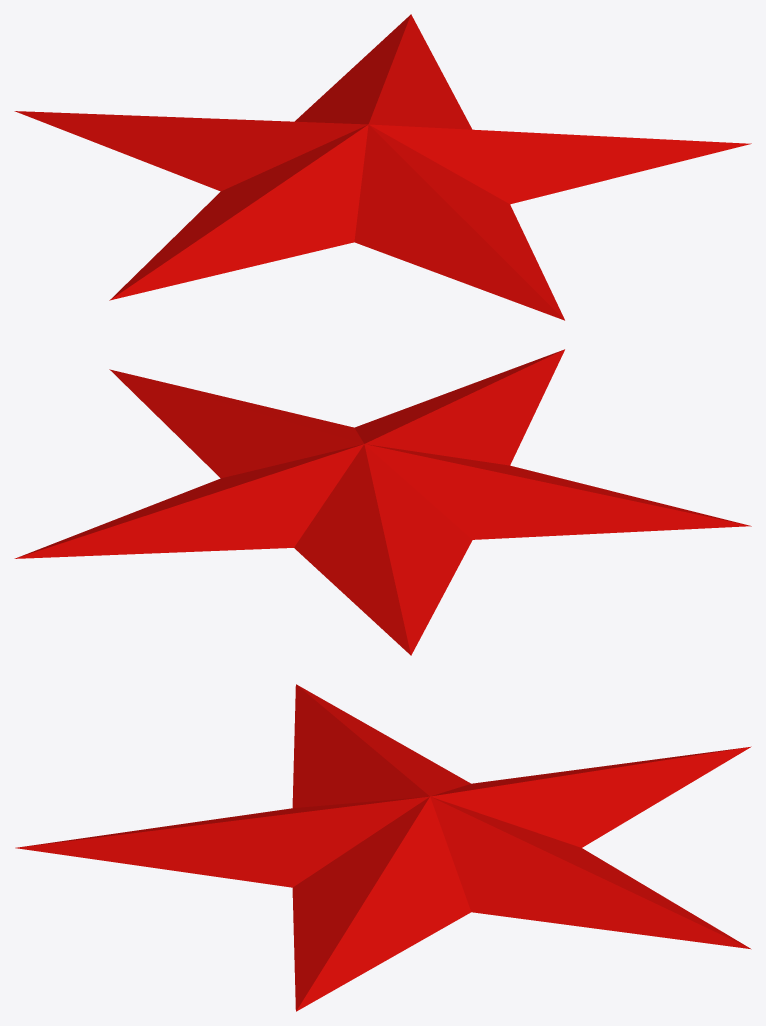
The model's file is star2.fbx.
3 renders of one model, top to bottom at view 1: azimuth 30°, elevation 25°; view 2: azimuth 150°, elevation 25°; view 3: azimuth 270°, elevation 25°, orthographic. The views are drawn at different scales.
Visible parts, largest first — view 1: Star; view 2: Star; view 3: Star.
Part boxes in pixels (x1,y1,x2,y2): Star: (14,14,751,320); Star: (14,349,751,655); Star: (15,684,751,1011).
Bounding box in the file's own units: 190 × 23.39 × 181.
